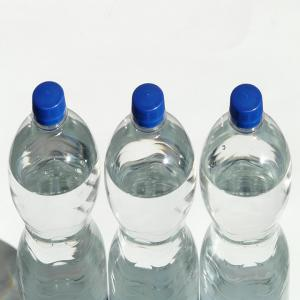Plastic-bottle: (6, 82, 103, 300), (104, 84, 200, 300), (200, 84, 294, 300)
